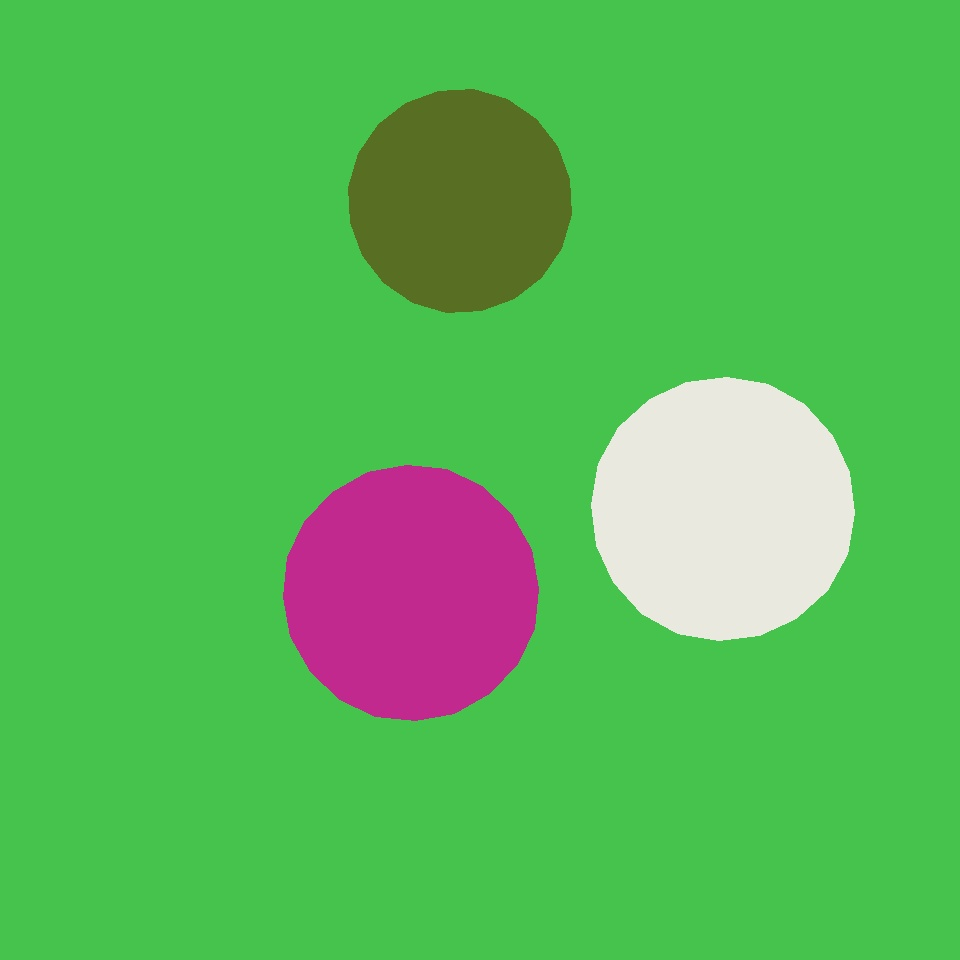circle: (291, 582, 462, 774), (167, 282, 298, 420), (562, 220, 694, 337)
square: (270, 258, 575, 564), (237, 448, 508, 719), (456, 661, 546, 752)
triangle: (592, 377, 854, 640), (284, 466, 538, 720), (348, 90, 572, 313)
